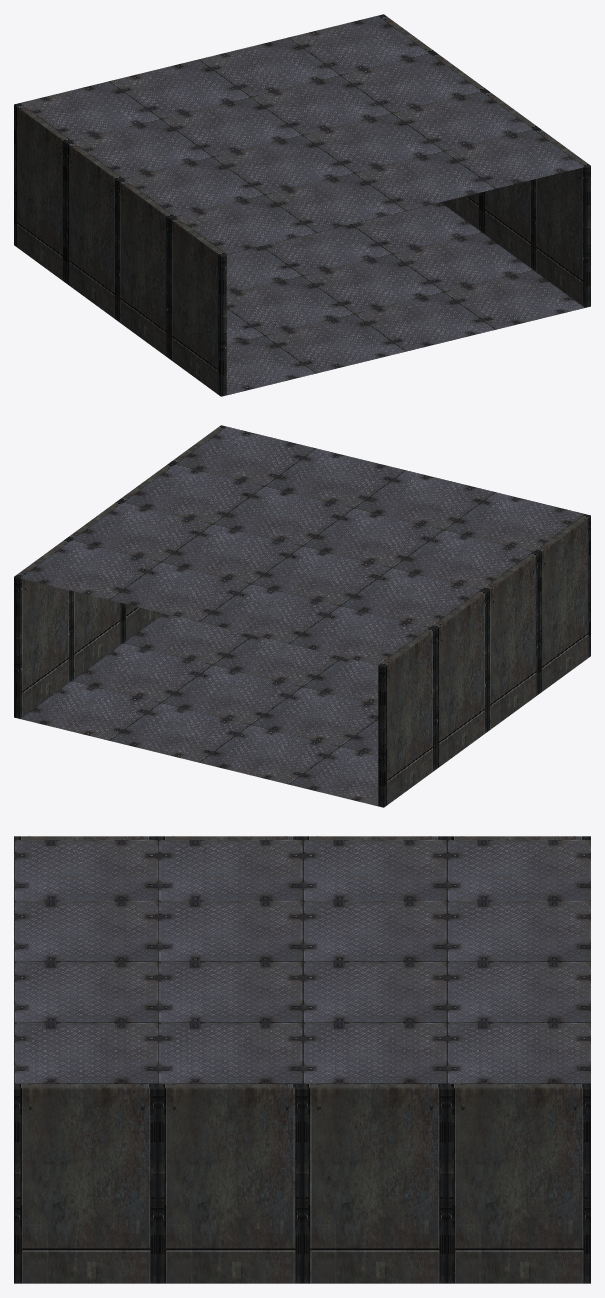
File: room_1.gltf
3 renders of one model, top to bottom at view 1: azimuth 30°, elevation 25°; view 2: azimuth 150°, elevation 25°; view 3: azimuth 270°, elevation 25°, orthographic. The views are drawn at different scales.
Parts seen in each view (by area): view 1: plane (×27), cube (×7); view 2: plane (×27), cube (×7); view 3: plane (×16), cube (×8).
Part boxes in pixels (x1,y1,x2,y2): plane (×27): [20, 15, 584, 395]; cube (×7): [14, 52, 590, 396]; plane (×27): [20, 426, 584, 806]; cube (×7): [14, 463, 590, 807]; plane (×16): [14, 840, 590, 1083]; cube (×8): [14, 836, 590, 1283].
Bounding box in the file's own units: 8.25 × 3 × 8.
Materials: 2 (2 with a texture image).
